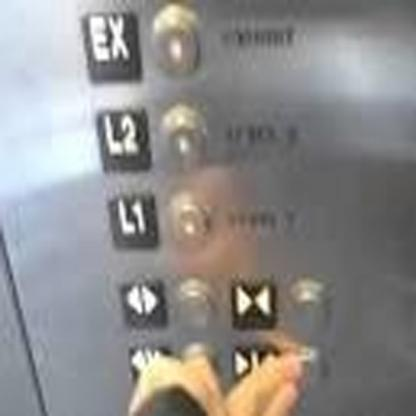EX: (76, 7, 144, 86)
L1: (104, 186, 162, 252)
L2: (92, 105, 154, 175)
close: (226, 272, 279, 331)
empty: (146, 2, 208, 84), (162, 183, 217, 256), (156, 100, 210, 174), (173, 274, 218, 334)
open: (116, 274, 170, 333)
